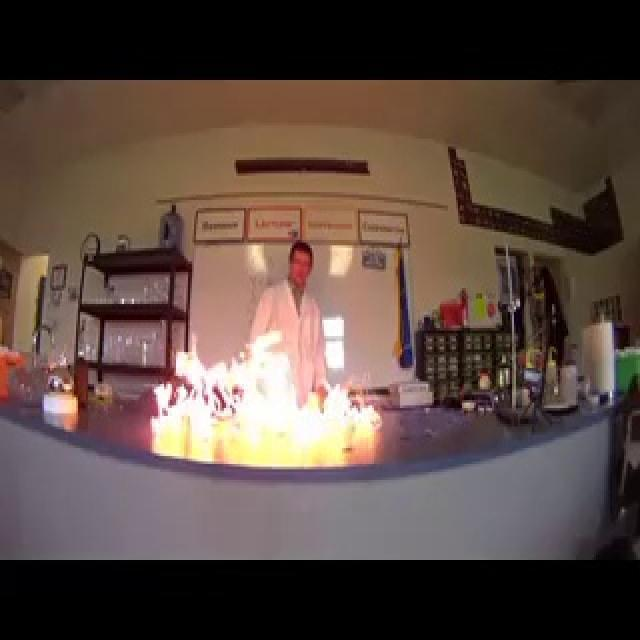fire: (151, 324, 383, 441)
